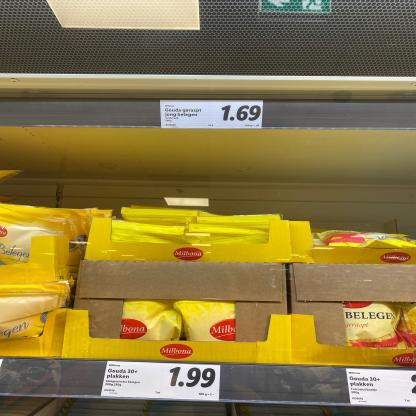prtg: (102, 362, 221, 402), (161, 101, 264, 130), (347, 370, 416, 408)
